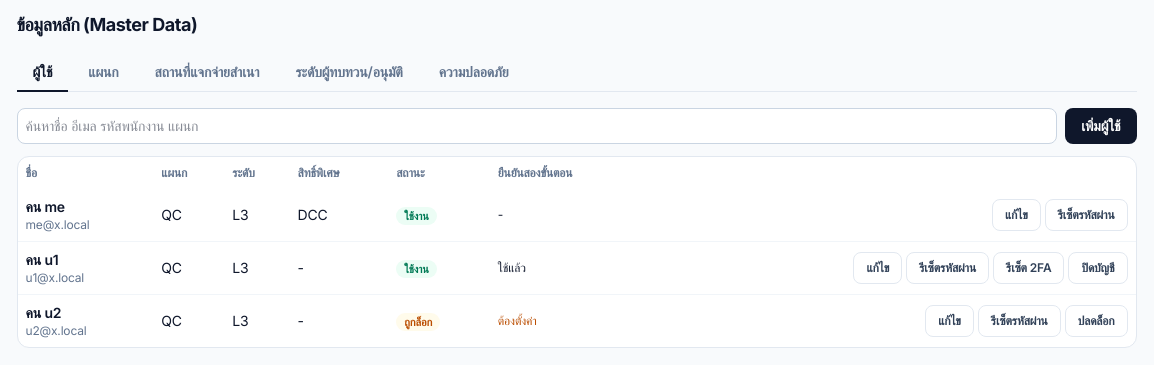
Test: API master data page › lists everyone with their status, and offers deactivation only for other people
Expected: the text "คน u2" is shown, [26,304,61,321]
Expected: the text "ถูกล็อก" is shown, [396,313,440,331]
Type "u2@" into the field named "ค้นหาผู้ใช้" at {"x": 537, "y": 126}, box [16,108,1057,144]
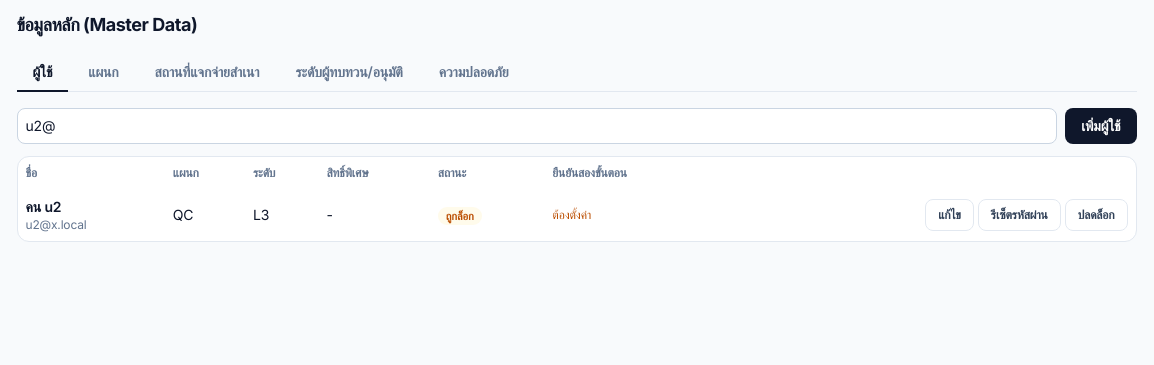
Now the text "คน u1" is gone
